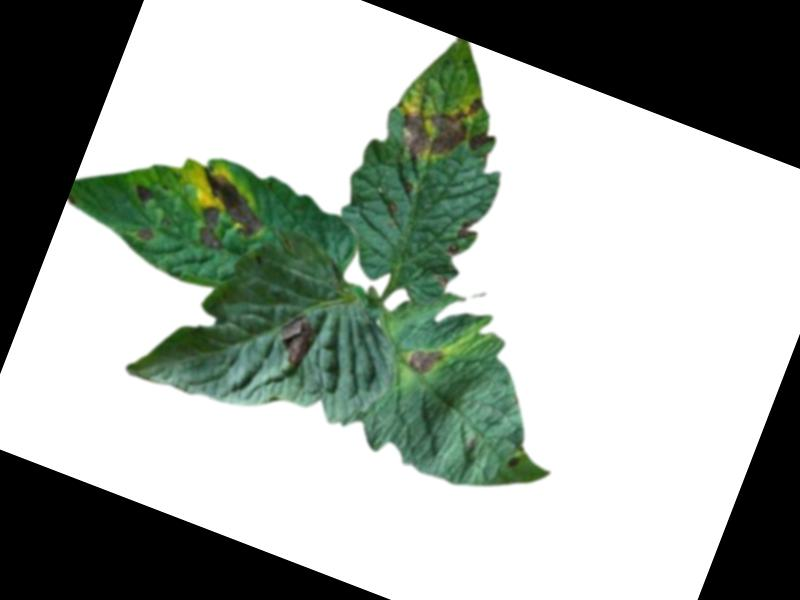Early_blight: (390, 74, 487, 175), (177, 166, 273, 264), (269, 306, 322, 371), (444, 214, 482, 262), (405, 342, 445, 380), (465, 125, 498, 158), (130, 181, 159, 207), (134, 226, 156, 245), (506, 454, 523, 474)
